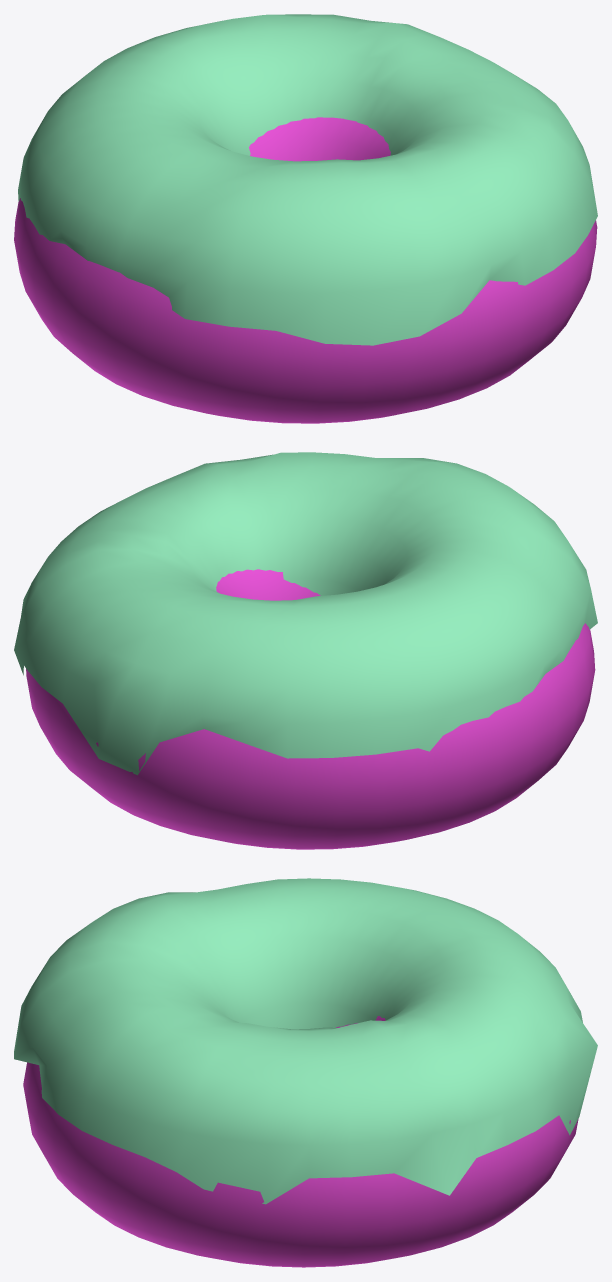
Rendered from 23blend.glb.
3 renders of one model, top to bottom at view 1: azimuth 30°, elevation 25°; view 2: azimuth 150°, elevation 25°; view 3: azimuth 270°, elevation 25°, orthographic. The views are drawn at different scales.
Parts seen in each view (by area): view 1: Torus.002, Torus.001; view 2: Torus.002, Torus.001; view 3: Torus.002, Torus.001.
Part boxes in pixels (left/top/right/bottom): Torus.002: left=18, top=14, right=597, bottom=345; Torus.001: left=14, top=117, right=597, bottom=423; Torus.002: left=14, top=452, right=597, bottom=775; Torus.001: left=26, top=569, right=595, bottom=849; Torus.002: left=14, top=878, right=597, bottom=1204; Torus.001: left=23, top=1016, right=578, bottom=1267.
Size of the model in its own units: 3.05 by 1.41 by 3.16.
